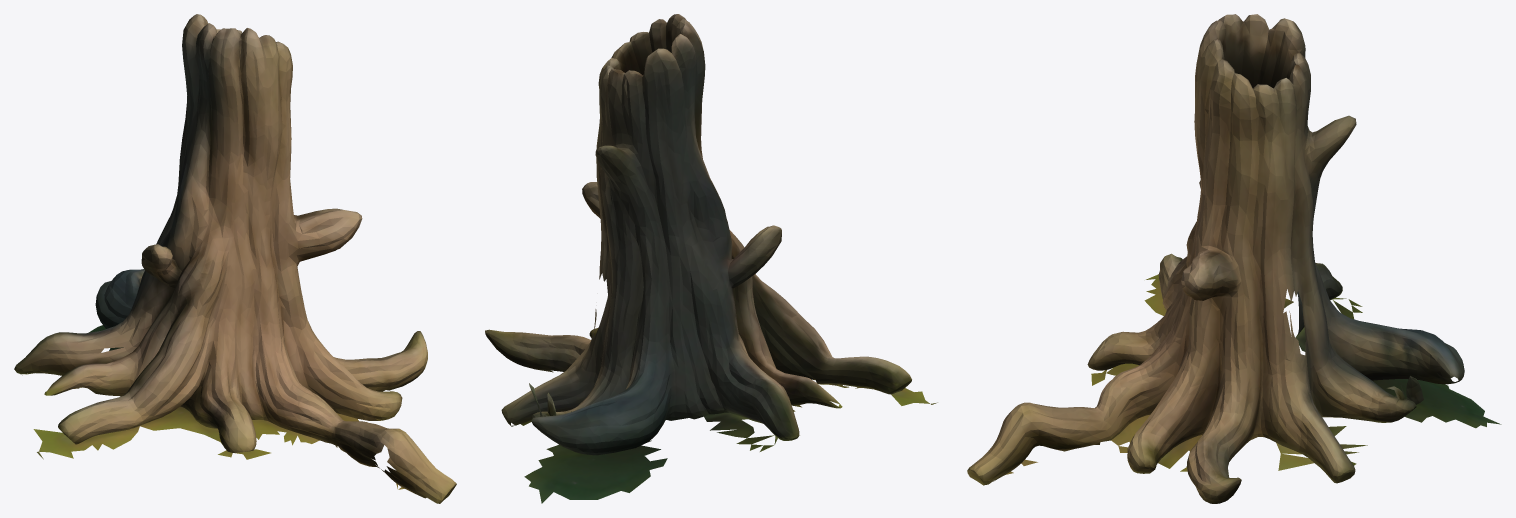
The model's file is kit_terrain2.glb.
3 views of the same model, side by side, from view 1: azimuth 30°, elevation 25°; view 2: azimuth 150°, elevation 25°; view 3: azimuth 270°, elevation 25° (orthographic). The views are drawn at different scales.
Parts seen in each view (by area): view 1: oak_0; view 2: oak_0; view 3: oak_0.
Boxes of the visible parts, x1,y1,x2,y2 form: oak_0: [14, 14, 456, 503]; oak_0: [485, 14, 937, 503]; oak_0: [967, 14, 1501, 503].
Size of the model in its own units: 38.09 by 35.59 by 40.93.
1 material, 1 textured.
